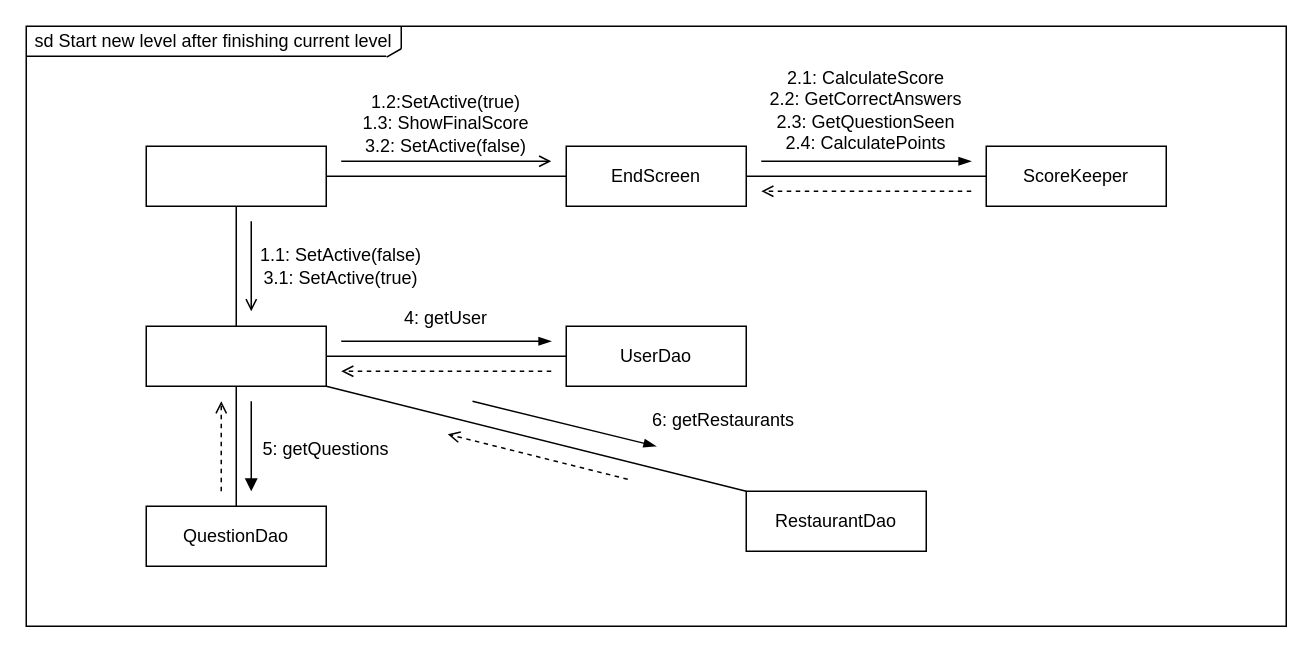
Image size: 1313x653. Some labels were removed from this diagram. The shapes that lost their labels are listed below. From the top down, each one's box as (x1, y1, x2, y2) in pixels, then its label:
(145, 145, 326, 206): GameManager
(145, 325, 326, 386): Quiz
